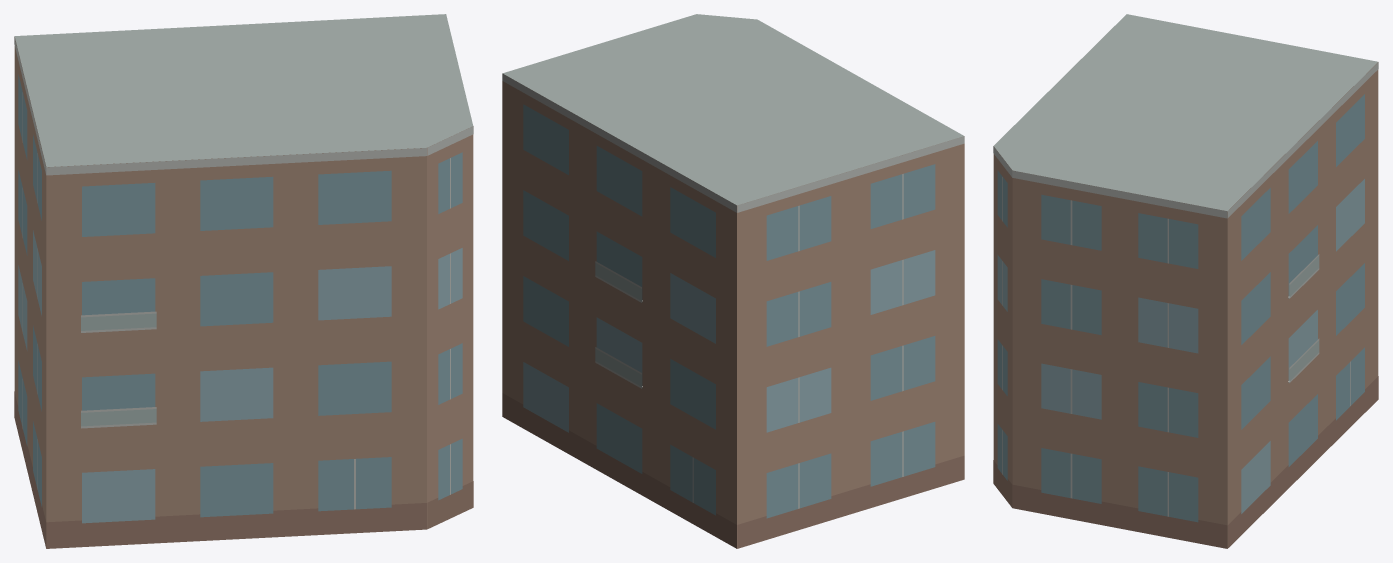
File: survey-upis-32525794.glb
3 renders of one model, left to right at view 1: azimuth 30°, elevation 25°; view 2: azimuth 150°, elevation 25°; view 3: azimuth 270°, elevation 25°, orthographic. The views are drawn at different scales.
Parts seen in each view (by area): view 1: survey-upis-32525794.tmp; view 2: survey-upis-32525794.tmp; view 3: survey-upis-32525794.tmp.
Part boxes in pixels (bbox=[...]): survey-upis-32525794.tmp: bbox=[14, 14, 473, 548]; survey-upis-32525794.tmp: bbox=[502, 14, 964, 548]; survey-upis-32525794.tmp: bbox=[993, 14, 1378, 548].
Bounding box in the file's own units: 14.04 × 11.2 × 11.58.
